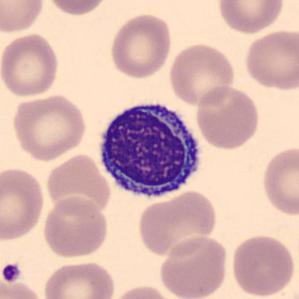Lymphocyte: (92, 96, 206, 204)
Platelets: (0, 261, 22, 283)
RBC: (136, 189, 220, 258), (9, 92, 89, 162), (157, 233, 230, 299), (107, 11, 174, 80), (167, 41, 237, 107), (44, 152, 112, 219), (41, 194, 110, 260), (194, 84, 261, 151), (229, 232, 297, 298), (0, 31, 62, 99), (0, 166, 47, 242), (243, 28, 298, 92), (40, 258, 116, 299), (259, 144, 298, 219), (216, 0, 287, 36), (0, 0, 46, 35), (43, 0, 112, 17), (0, 275, 46, 299), (108, 283, 177, 299)
